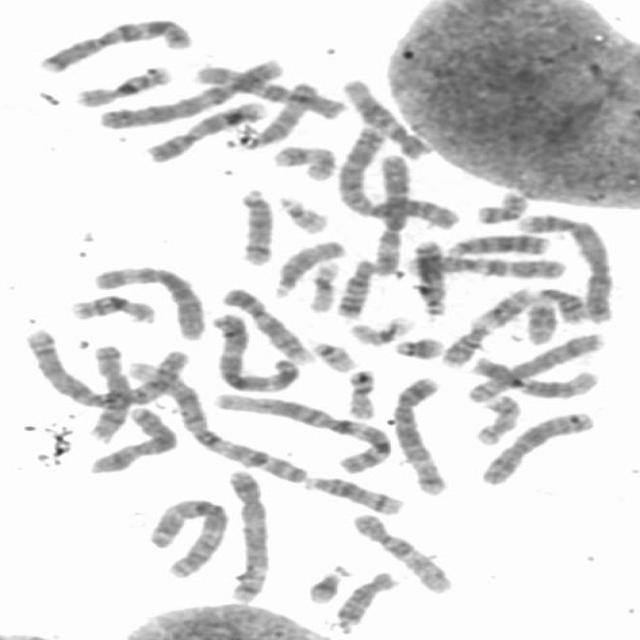A1: (129, 362, 307, 483), (215, 393, 391, 472)
A2: (334, 124, 459, 229), (27, 330, 189, 409)
A3: (210, 313, 299, 393), (148, 498, 228, 578)
B4: (99, 60, 285, 129), (518, 213, 614, 323)
B5: (391, 376, 447, 496), (226, 471, 271, 602)
C10: (191, 64, 346, 120), (352, 514, 452, 594)
C11: (440, 287, 530, 369), (525, 288, 587, 344)
C12: (342, 80, 429, 159), (471, 356, 598, 398)
C6: (95, 267, 204, 340), (373, 153, 412, 277)
C7: (40, 19, 194, 72), (408, 256, 566, 280)
C8: (468, 334, 604, 402), (88, 345, 130, 443)
C9: (224, 286, 316, 366), (147, 102, 268, 162)
D13: (448, 233, 552, 258), (413, 242, 448, 316)
D14: (300, 476, 404, 514), (240, 188, 274, 266)
D15: (238, 82, 318, 150), (272, 240, 346, 300)
E16: (76, 66, 173, 108), (72, 296, 156, 324)
E17: (475, 396, 524, 444), (272, 146, 336, 180)
E18: (336, 571, 398, 625), (337, 260, 380, 318)
F19: (348, 317, 417, 346), (308, 262, 342, 312)
F20: (476, 192, 526, 225), (348, 369, 378, 420)
G21: (308, 565, 352, 604), (394, 336, 445, 361)
G22: (279, 196, 327, 234), (311, 343, 356, 373)
X: (480, 413, 596, 485), (89, 408, 179, 474)
